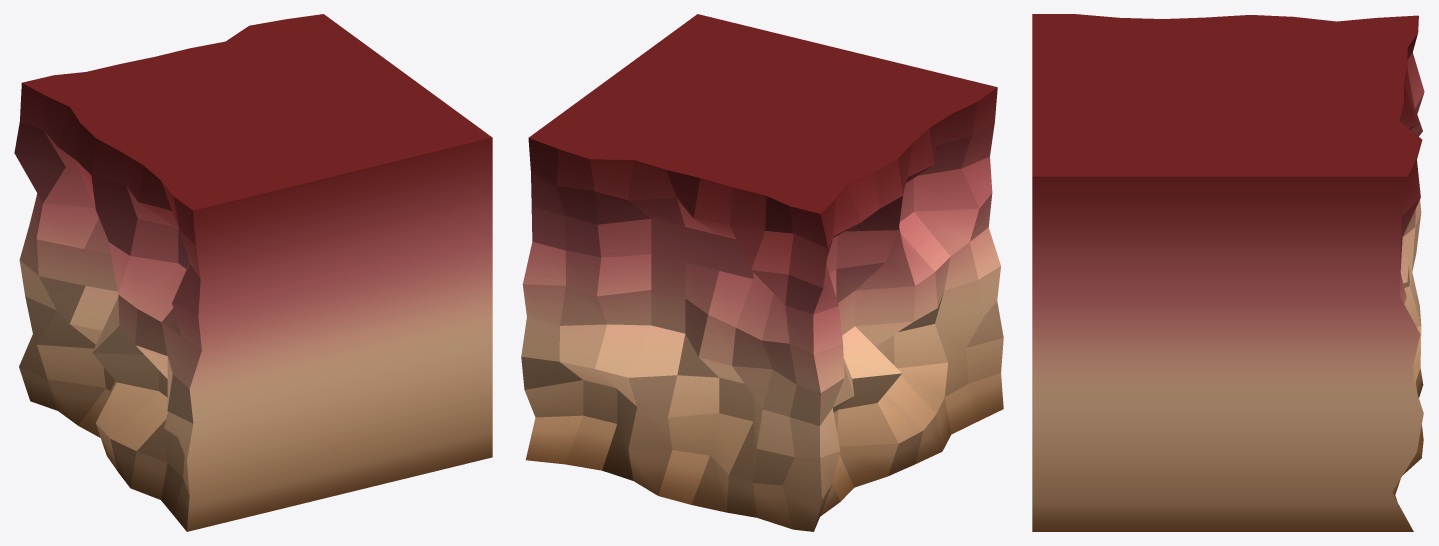
3 renders of one model, left to right at view 1: azimuth 30°, elevation 25°; view 2: azimuth 150°, elevation 25°; view 3: azimuth 270°, elevation 25°, orthographic. The views are drawn at different scales.
Parts seen in each view (by area): view 1: base9.001; view 2: base9.001; view 3: base9.001.
Boxes of the visible parts, bbox=[...] form: base9.001: bbox=[14, 14, 492, 531]; base9.001: bbox=[521, 14, 1003, 531]; base9.001: bbox=[1032, 14, 1424, 531].
Bounding box in the file's own units: 100 × 100 × 99.98.
